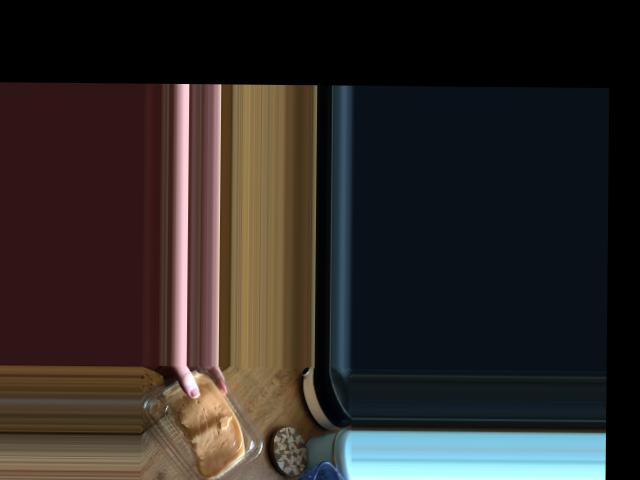cheese: (143, 375, 273, 480)
